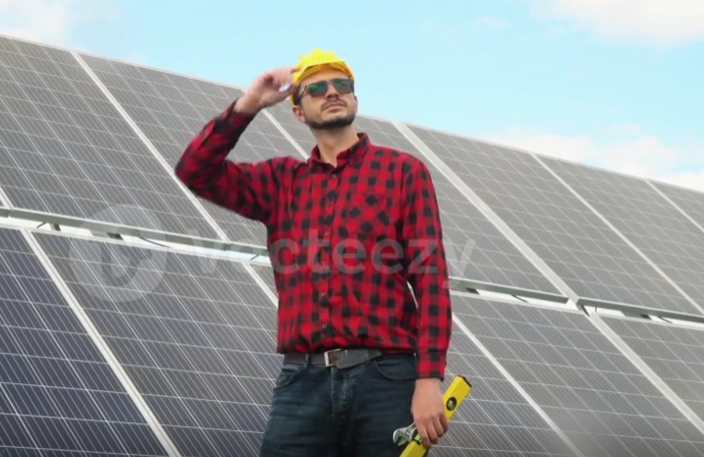safety_helmet: (391, 374, 472, 457), (288, 48, 355, 106)
